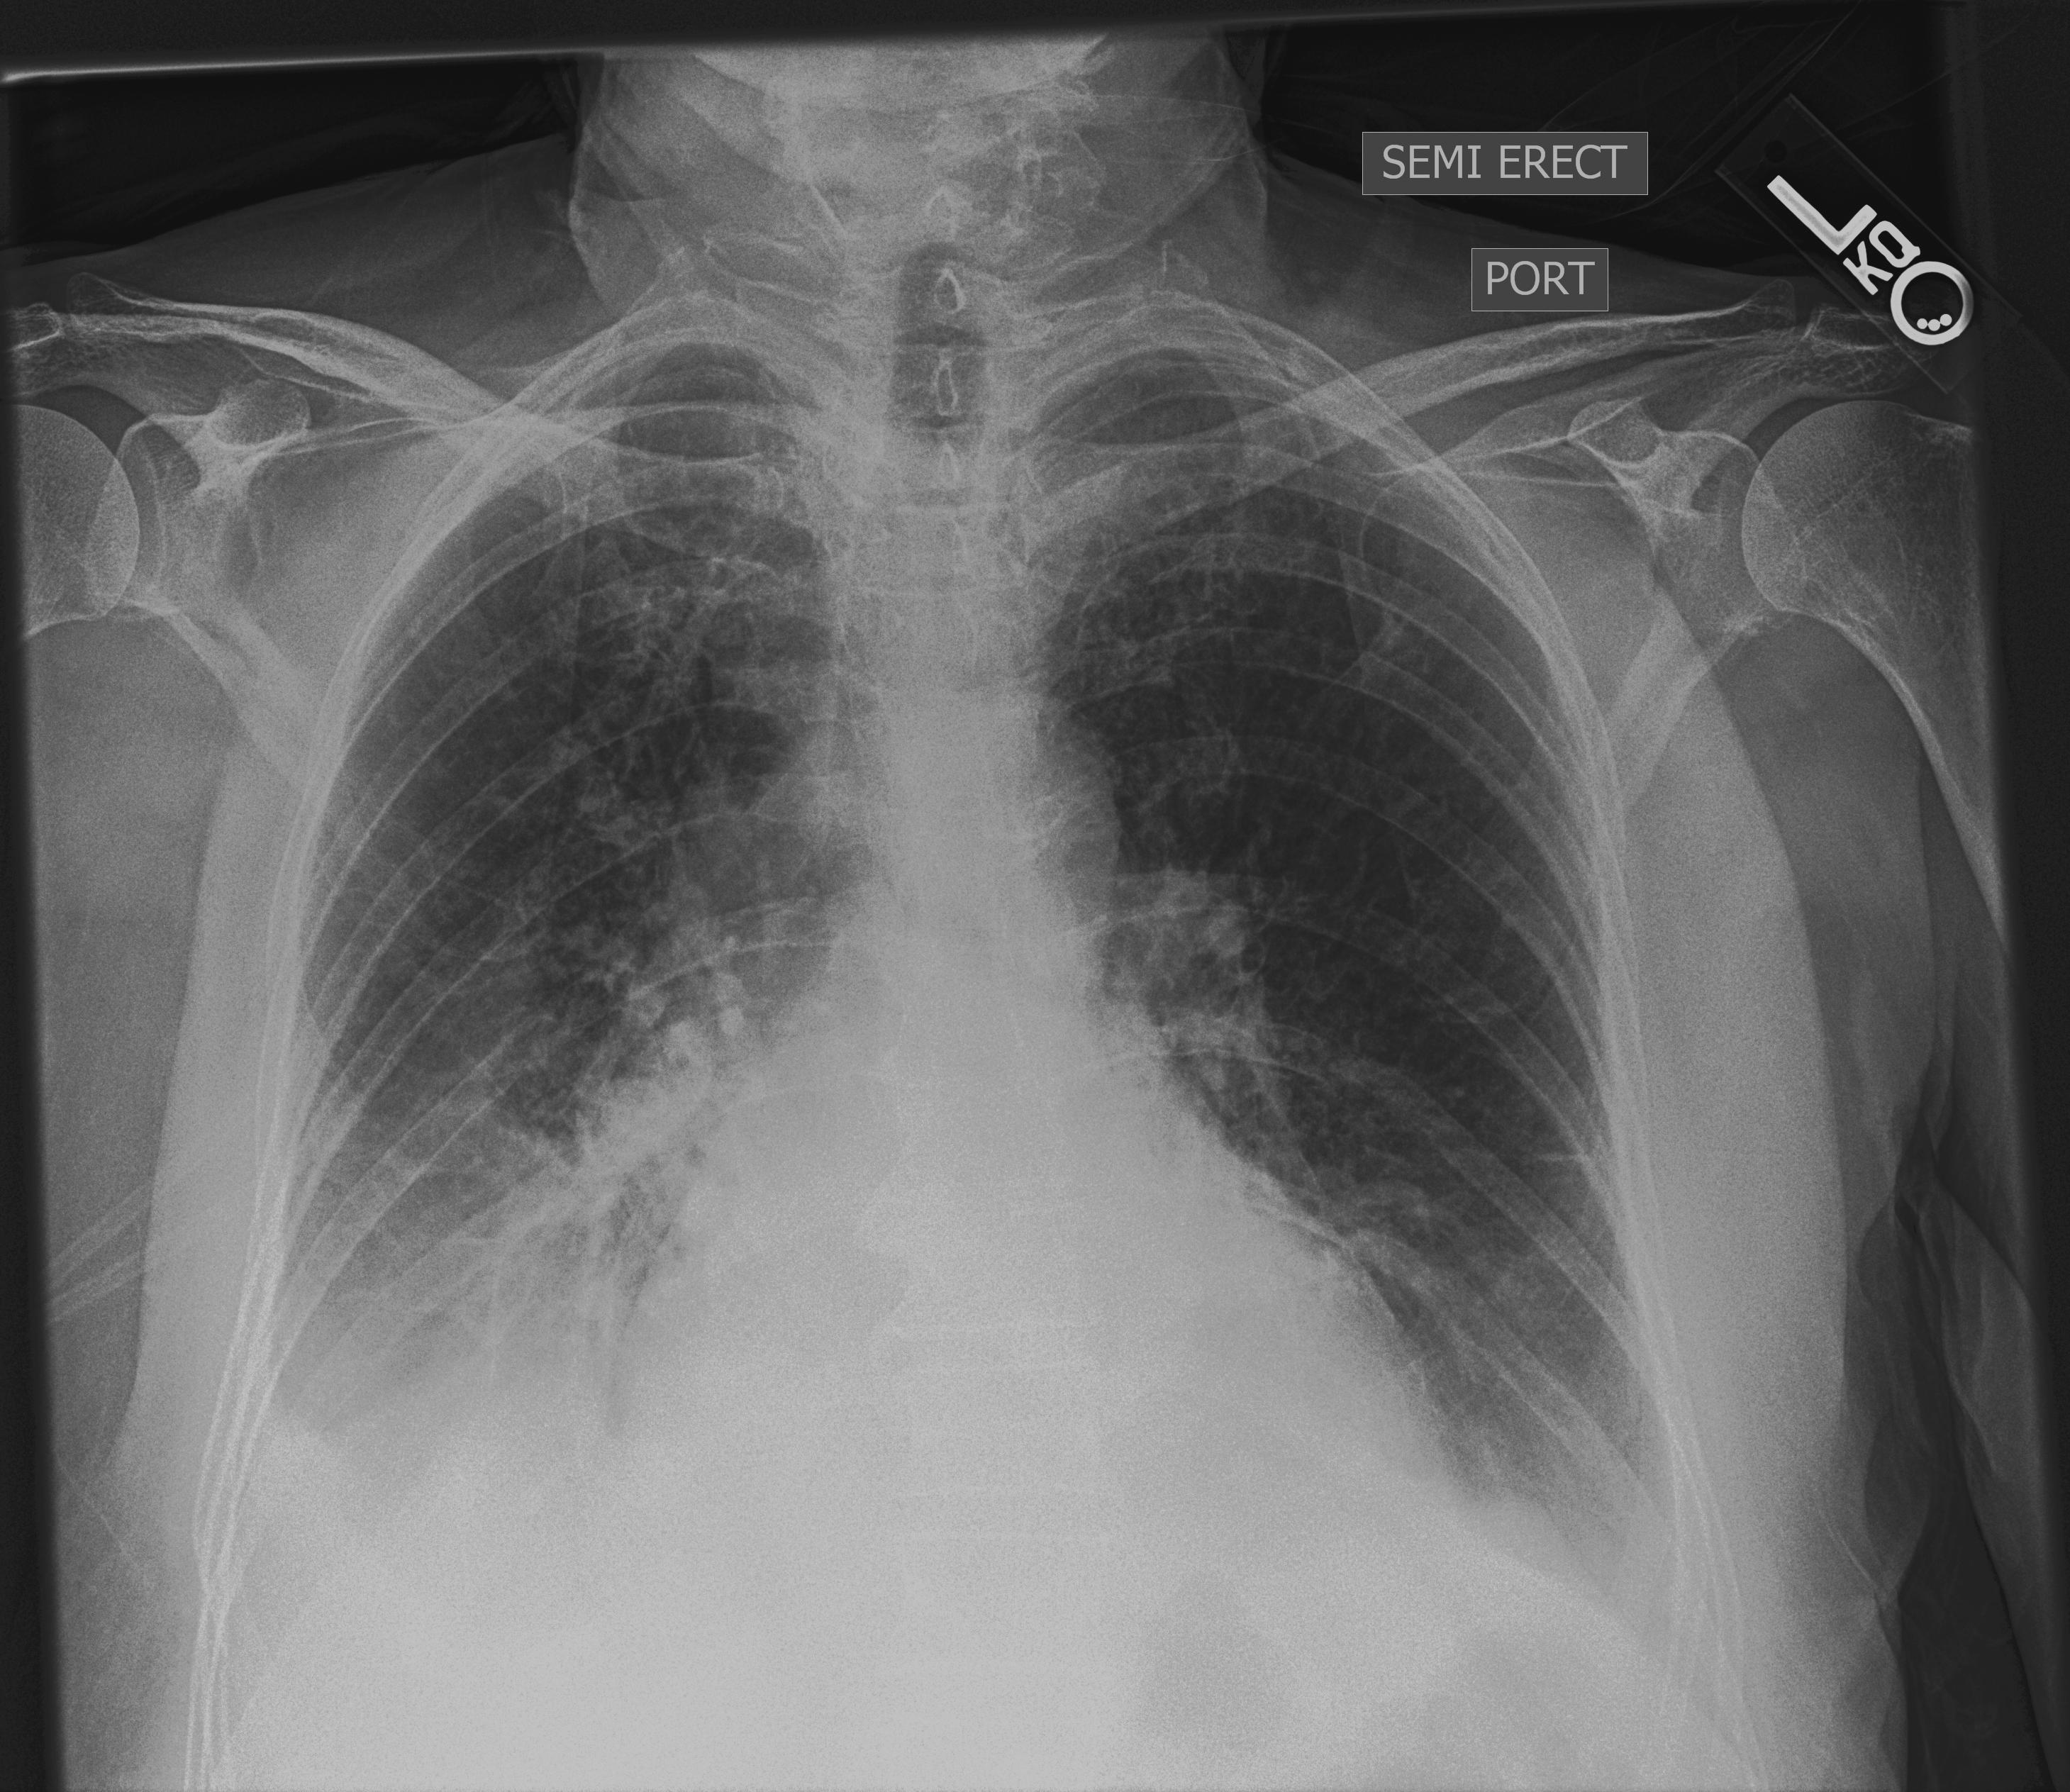Pleural Effusion: (157, 1236, 662, 1635)
